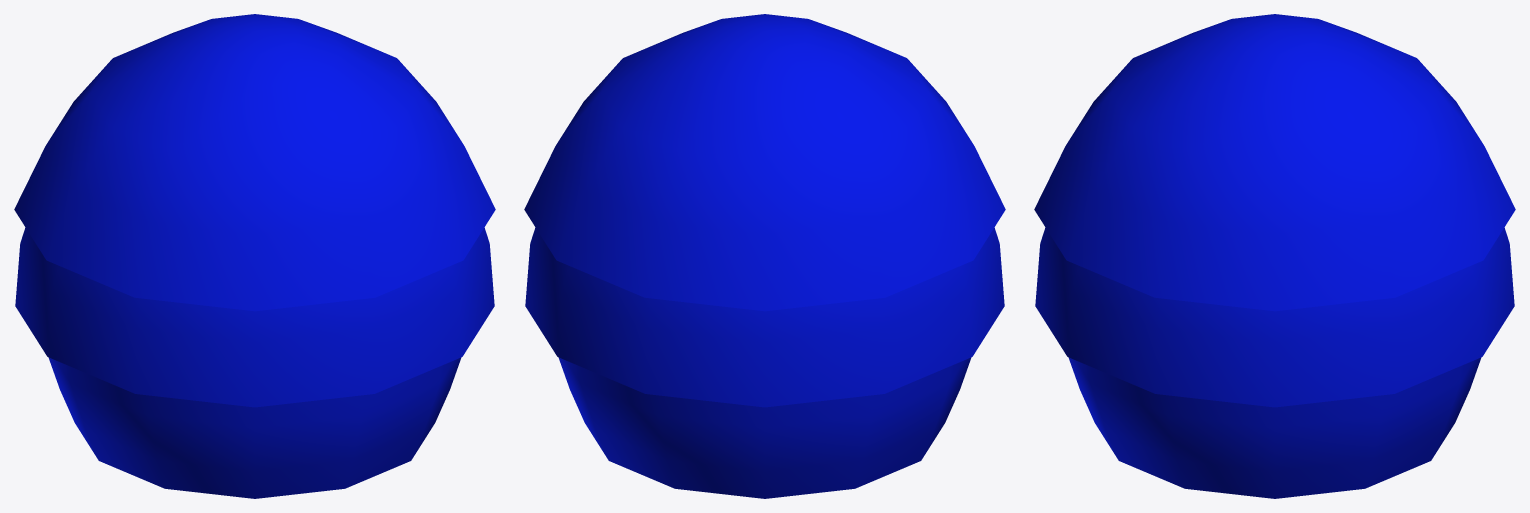
File: Buisson_LowPoly_2.fbx
3 views of the same model, side by side, from view 1: azimuth 30°, elevation 25°; view 2: azimuth 150°, elevation 25°; view 3: azimuth 270°, elevation 25° (orthographic).
Parts seen in each view (by area): view 1: Plane.001; view 2: Plane.001; view 3: Plane.001.
Boxes of the visible parts, box(x1,y1,x2,y2) form: Plane.001: box(14, 14, 495, 498); Plane.001: box(524, 14, 1005, 498); Plane.001: box(1034, 14, 1515, 498).
Size of the model in its own units: 1.89 by 1.7 by 1.89.
